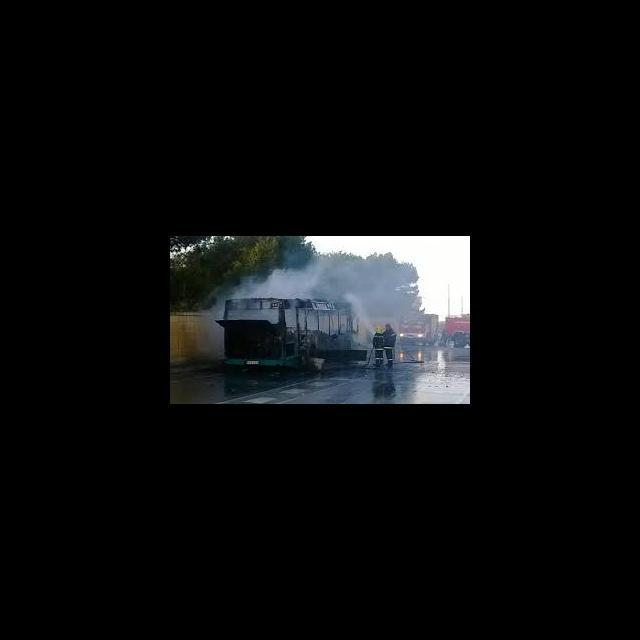Smoke: (268, 257, 400, 300), (361, 302, 395, 323), (234, 279, 266, 297), (228, 310, 277, 320), (286, 311, 296, 326), (308, 315, 317, 328), (330, 316, 337, 332), (320, 316, 327, 331), (300, 312, 304, 326)
